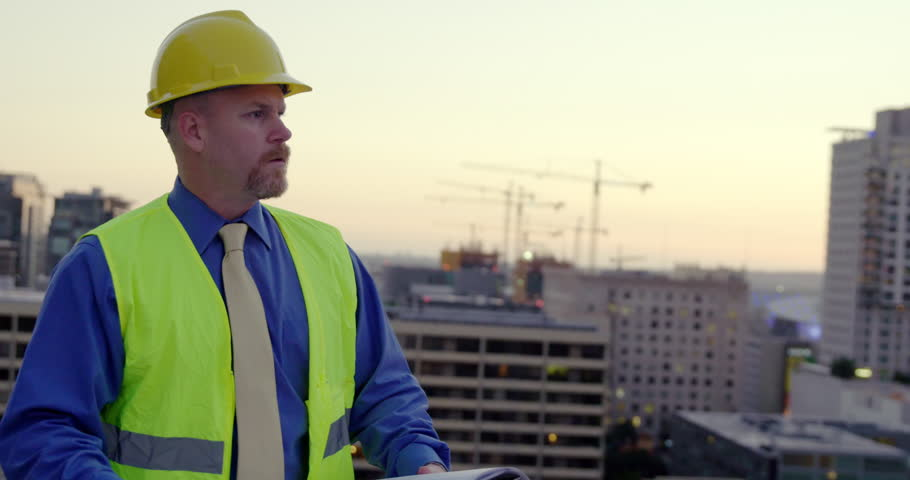Person_wearing_helmet: (129, 0, 318, 137)
